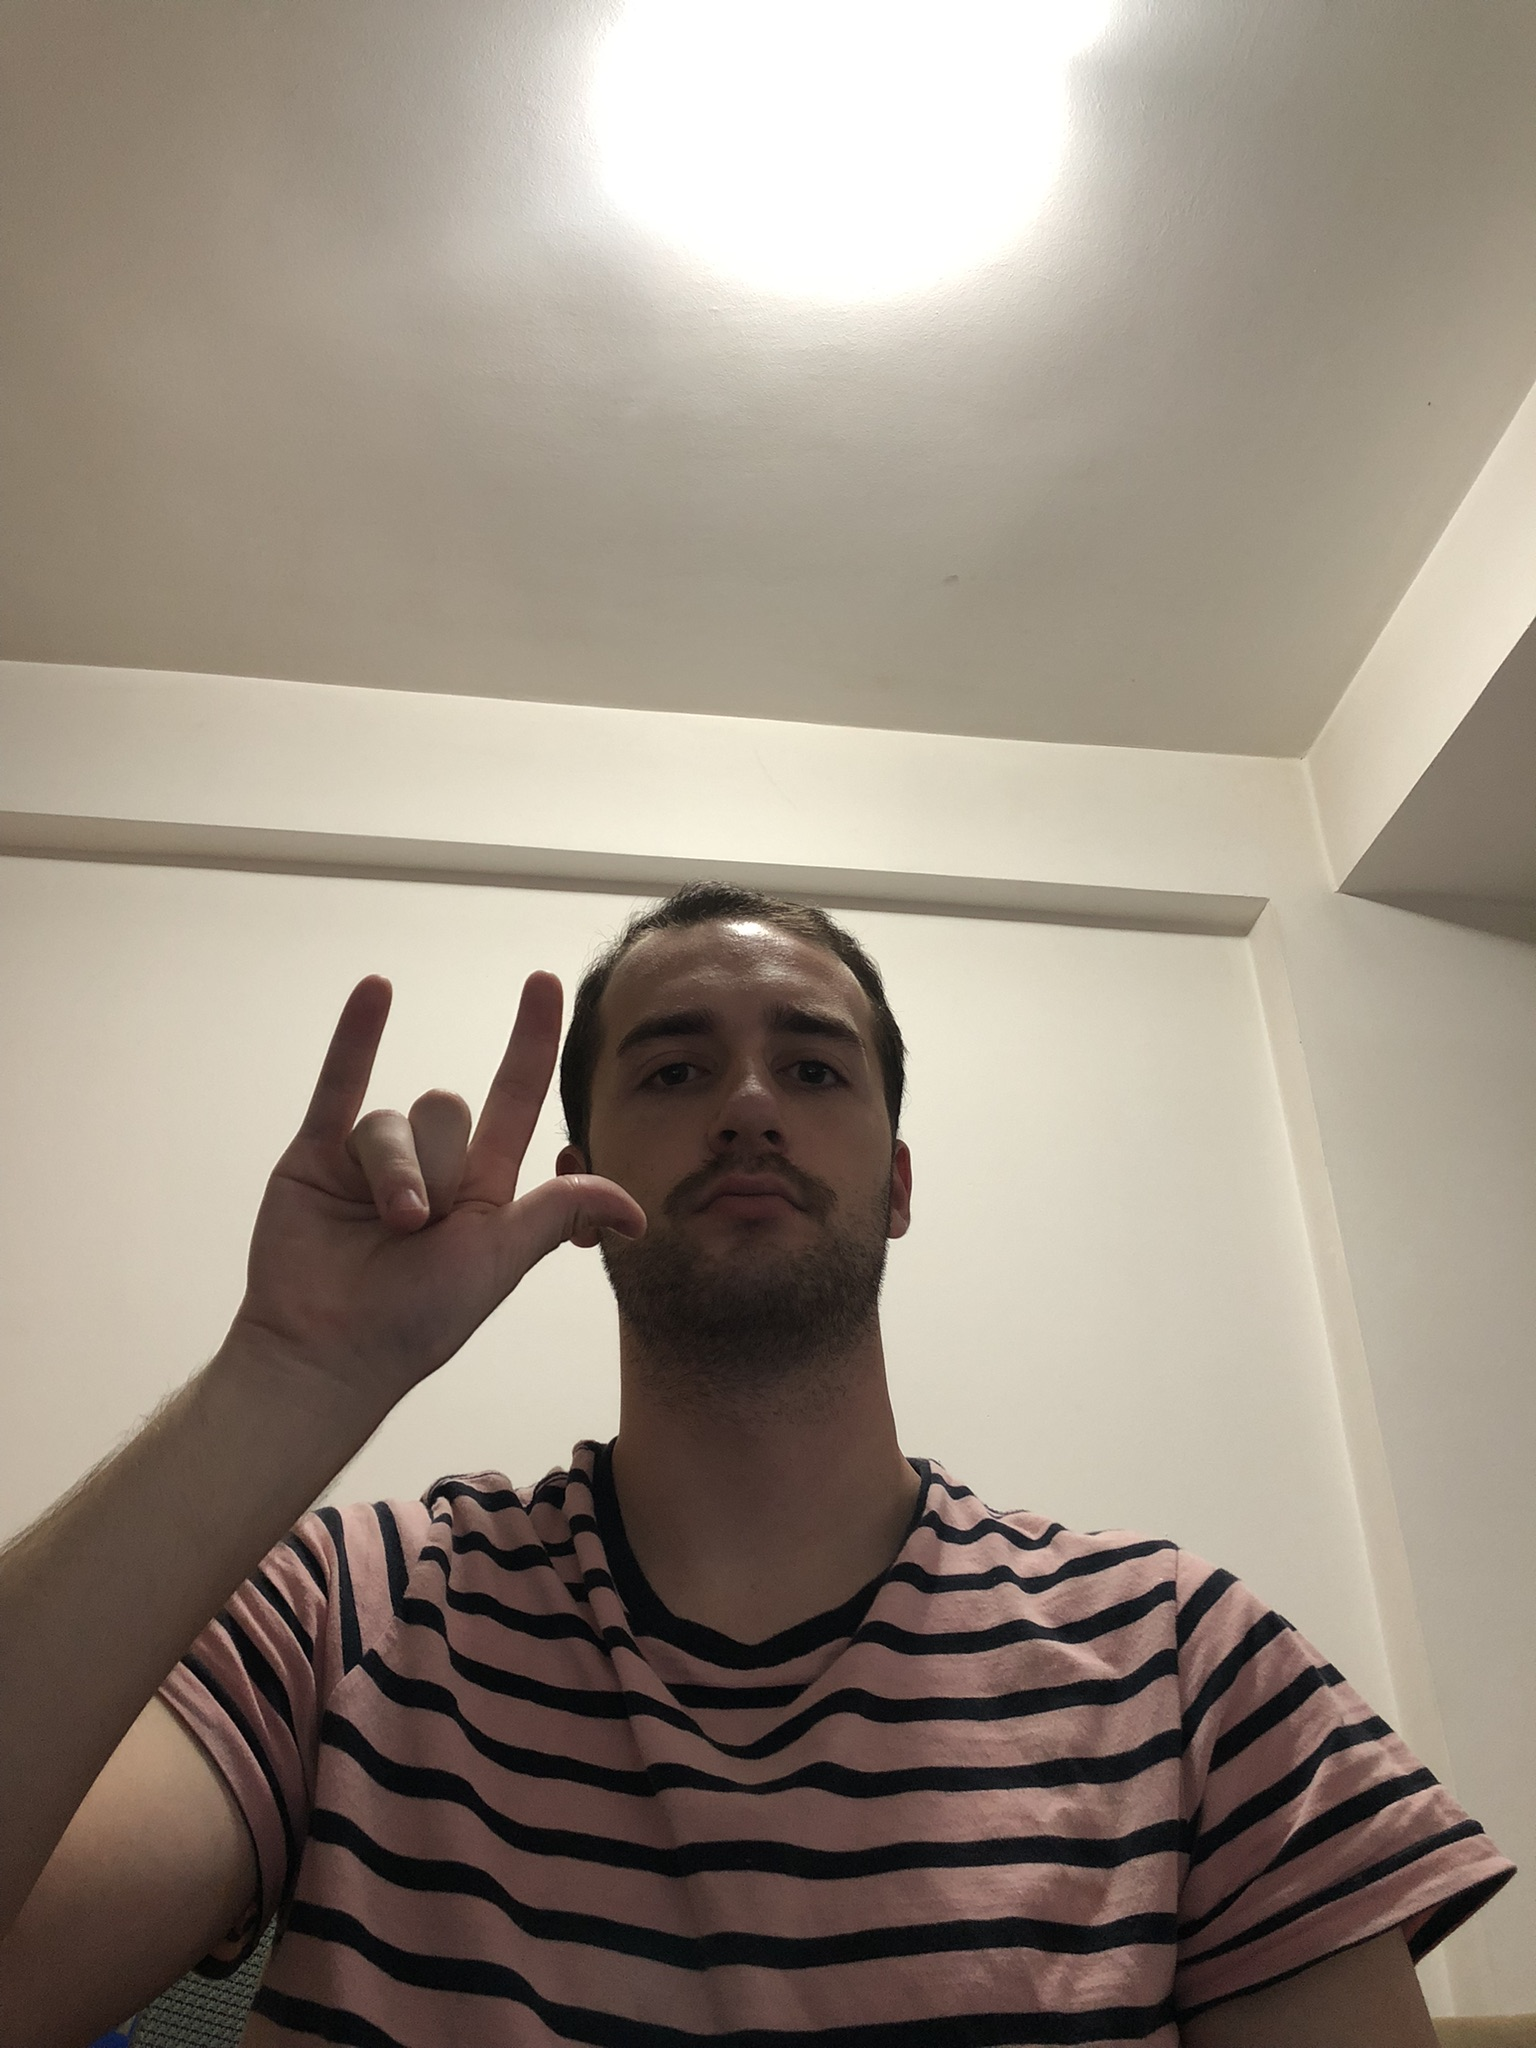I Love You: (232, 955, 649, 1397)
